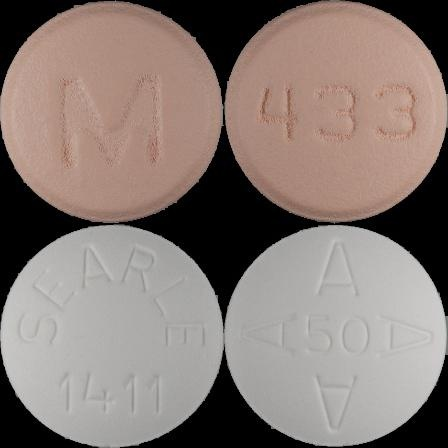54868-4134: (0, 0, 224, 224)
